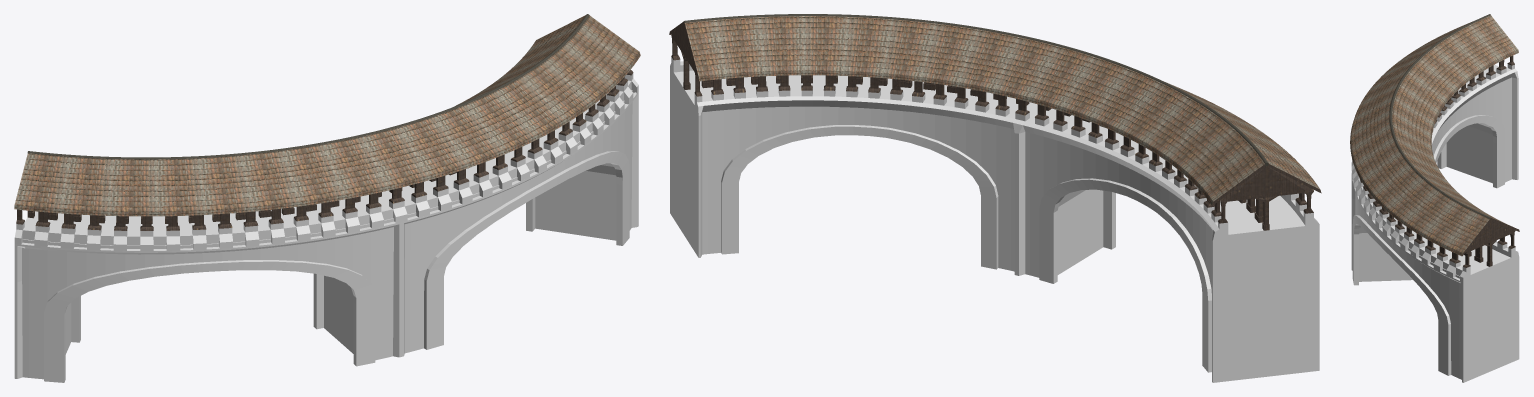
Rendered from Bridge-4.fbx.
3 views of the same model, side by side, from view 1: azimuth 30°, elevation 25°; view 2: azimuth 150°, elevation 25°; view 3: azimuth 270°, elevation 25° (orthographic). The views are drawn at different scales.
Parts seen in each view (by area): view 1: FIx Stlpy.004; view 2: FIx Stlpy.004; view 3: FIx Stlpy.004.
Part boxes in pixels (x1,y1,x2,y2): FIx Stlpy.004: [14, 14, 640, 382]; FIx Stlpy.004: [669, 14, 1321, 382]; FIx Stlpy.004: [1350, 14, 1519, 382].
Bounding box in the file's own units: 7298 × 2293 × 2297.
